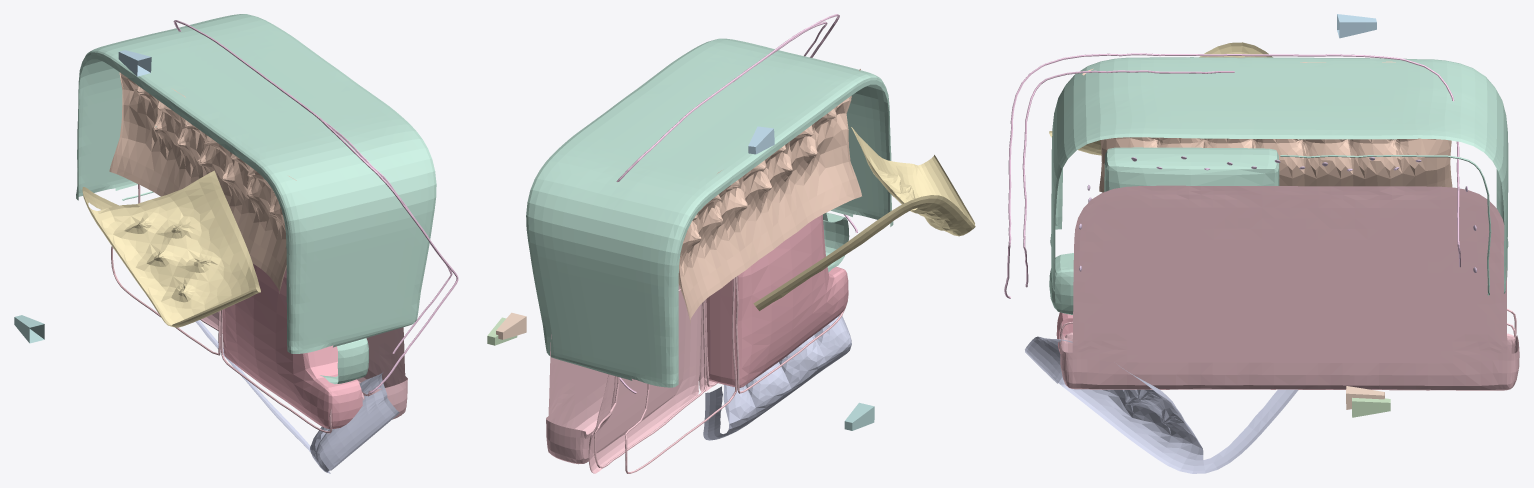
Rendered from view_input_colored.glb.
3 views of the same model, side by side, from view 1: azimuth 30°, elevation 25°; view 2: azimuth 150°, elevation 25°; view 3: azimuth 270°, elevation 25° (orthographic). The views are drawn at different scales.
Parts seen in each view (by area): view 1: world; view 2: world; view 3: world.
Part boxes in pixels (x1,y1,x2,y2): world: (14,14,458,473); world: (487,14,975,473); world: (1004,14,1519,473).
Size of the model in its own units: 0.8933 by 0.8973 by 1.05.
